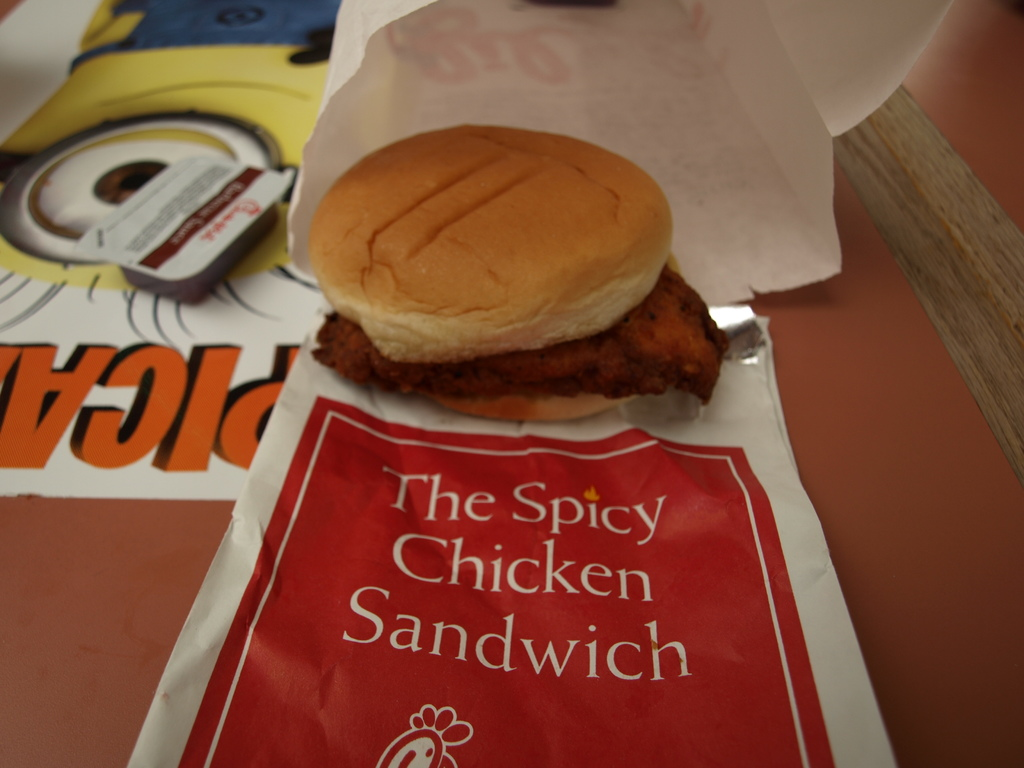Hamburger: (307, 122, 725, 422)
